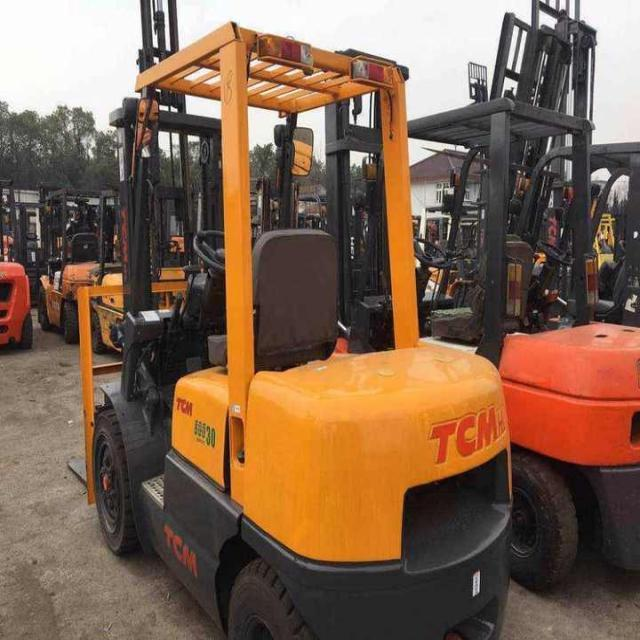forklift: (58, 4, 514, 628)
